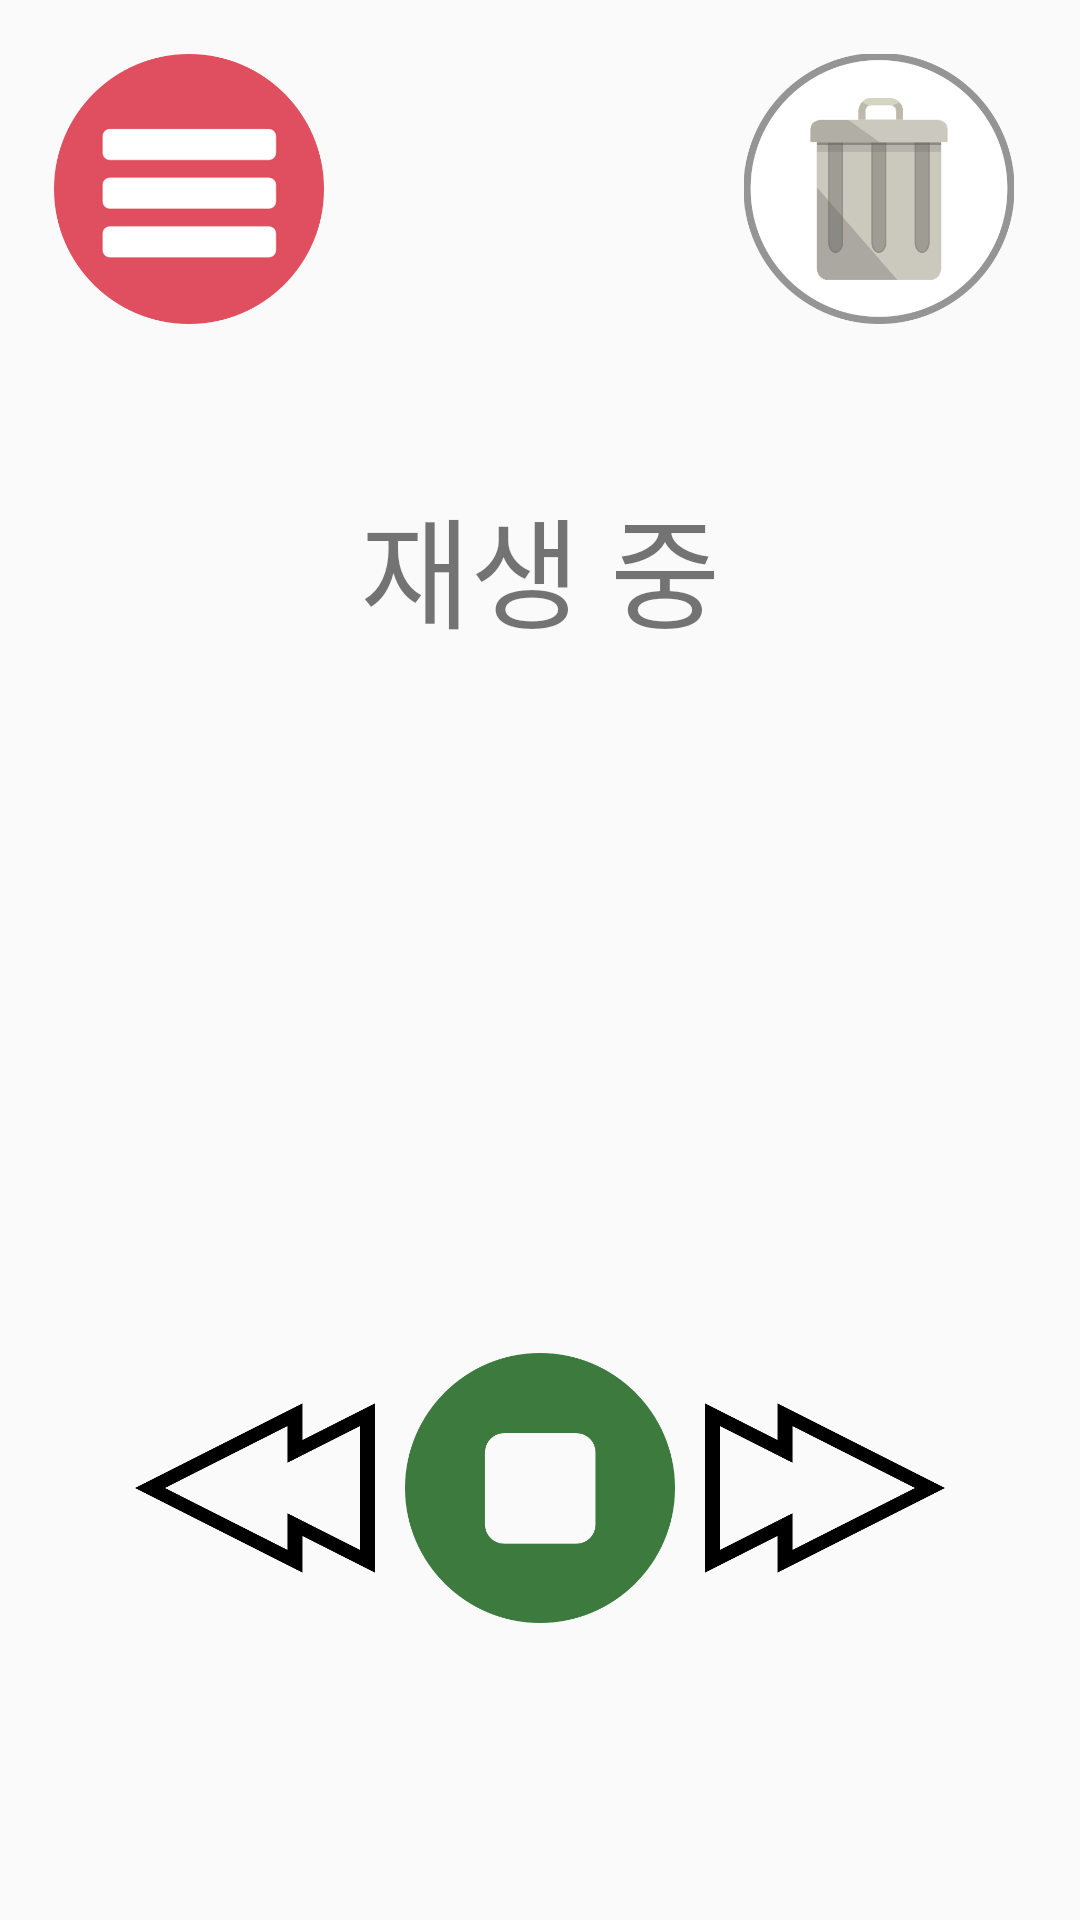

Where to tap for icons on this 1080px x 1920px app screen, as (x,y):
backwards: (255,1488)
del: (879,189)
forward: (825,1488)
list: (189,189)
stop: (540,1488)
